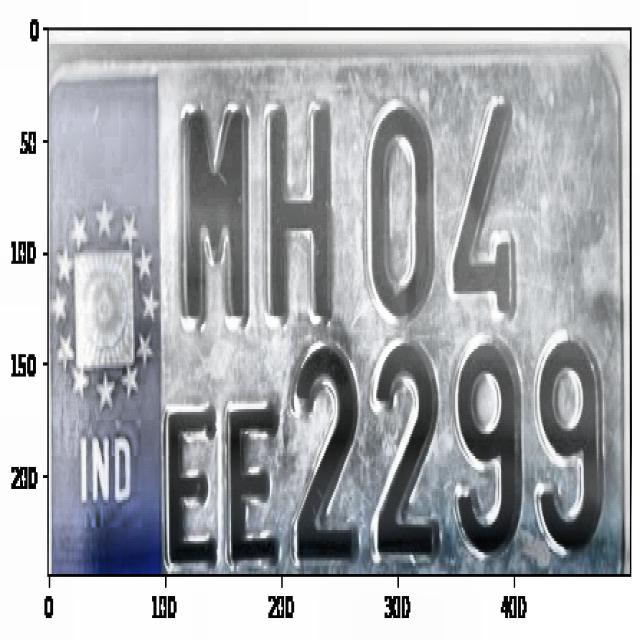license_plate: (151, 61, 617, 578)
